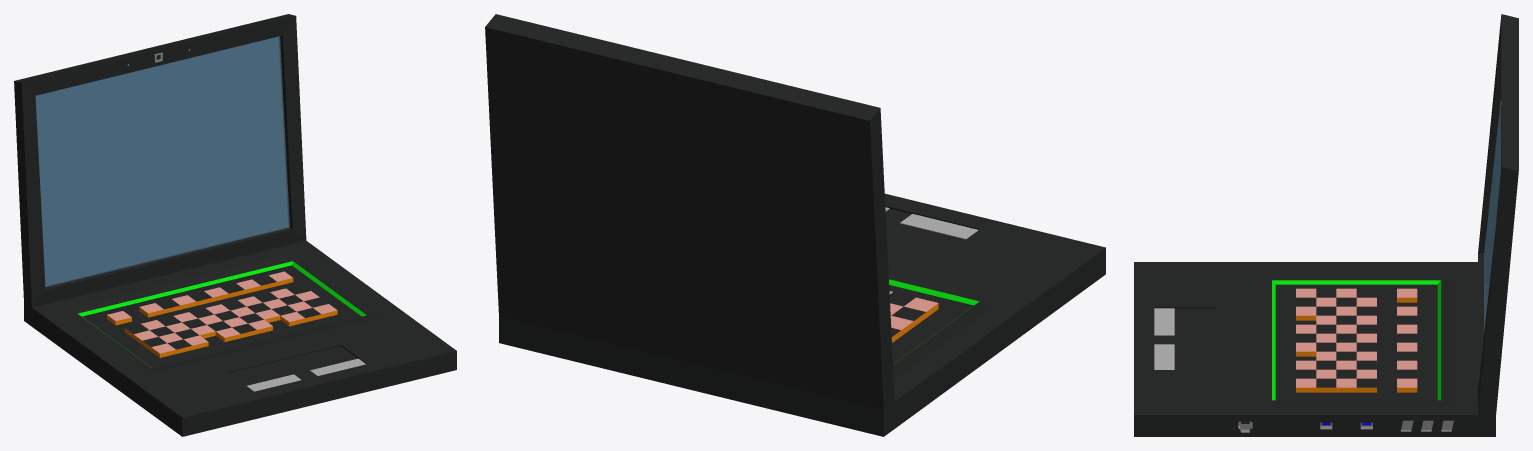
File: _omputer.fbx
3 renders of one model, left to right at view 1: azimuth 30°, elevation 25°; view 2: azimuth 150°, elevation 25°; view 3: azimuth 270°, elevation 25°, orthographic. The views are drawn at different scales.
Parts seen in each view (by area): view 1: Cube, Cube.001; view 2: Cube; view 3: Cube, Cube.001.
Boxes of the visible parts, x1,y1,x2,y2 form: Cube: (14, 14, 456, 436); Cube.001: (36, 37, 288, 285); Cube: (485, 14, 1105, 436); Cube: (1134, 14, 1518, 436); Cube.001: (1484, 102, 1500, 330).
Bounding box in the file's own units: 300 × 247 × 319.
